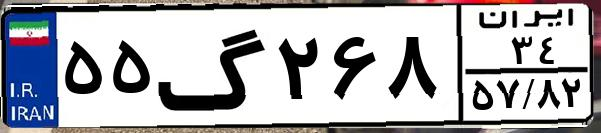2: (270, 28, 330, 110), (560, 70, 590, 125)
3: (508, 27, 537, 80)
4: (537, 27, 568, 80)
5: (57, 26, 110, 100), (110, 28, 156, 98), (470, 70, 495, 125)
6: (330, 28, 385, 110)
7: (495, 70, 520, 125)
8: (385, 28, 445, 110), (535, 70, 560, 125)
گ: (156, 12, 270, 120)
